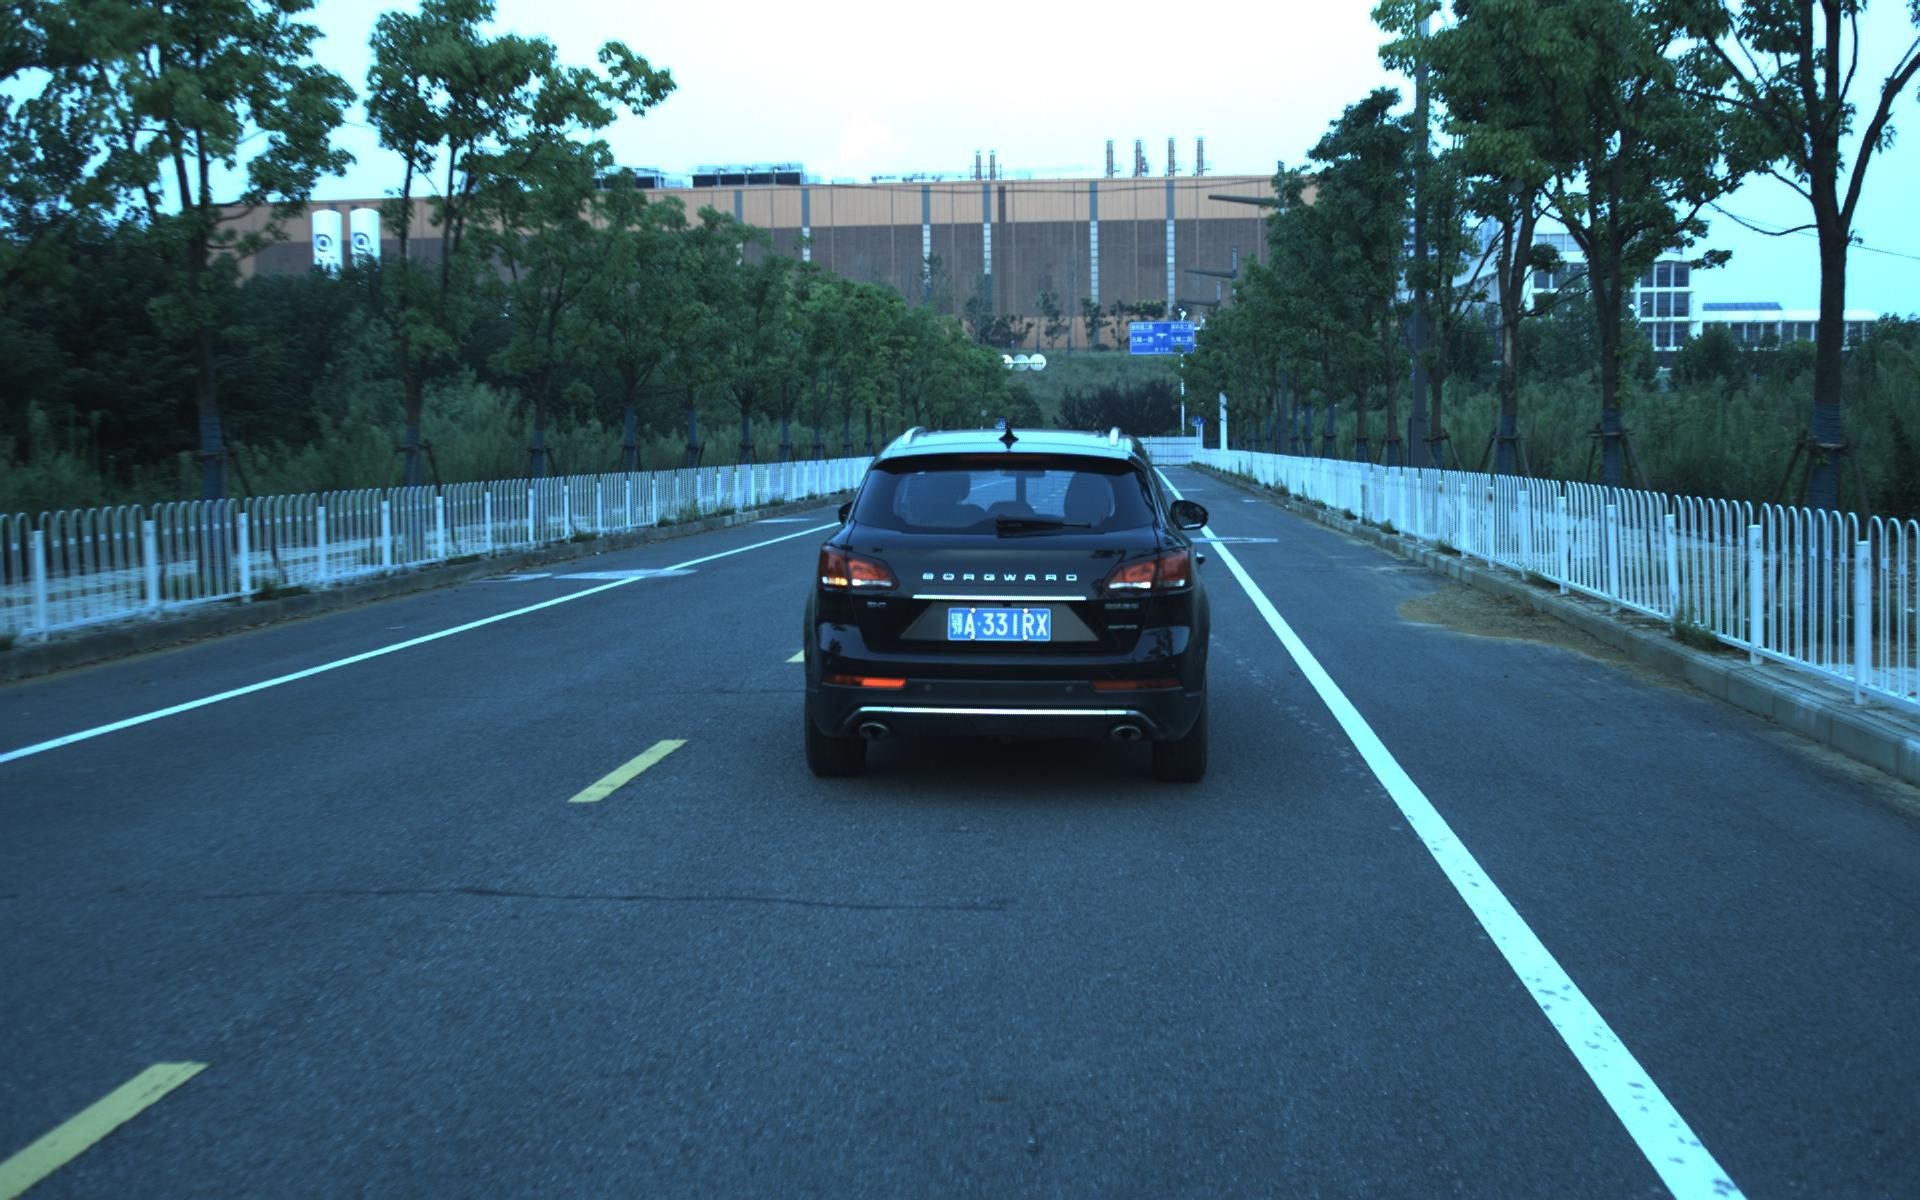Car: (791, 418, 1210, 789)
